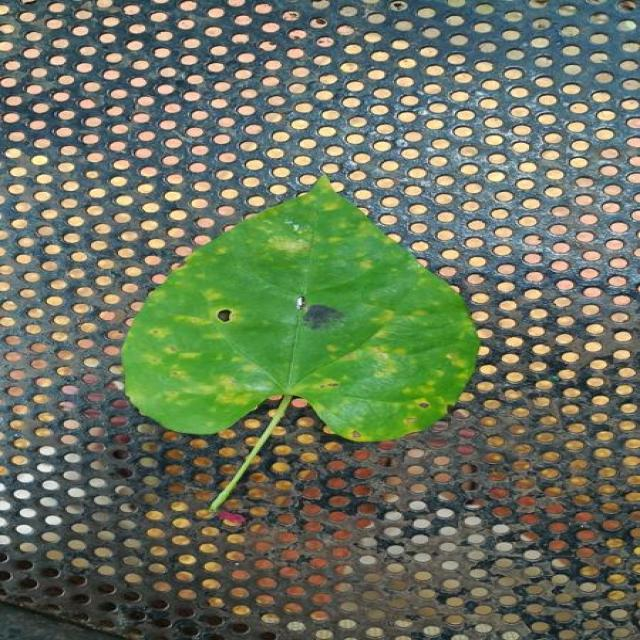Amruthaballi: (122, 176, 478, 510)
defectedAmruthaballi: (160, 176, 403, 292)
disease in leaf: (174, 288, 397, 374)
